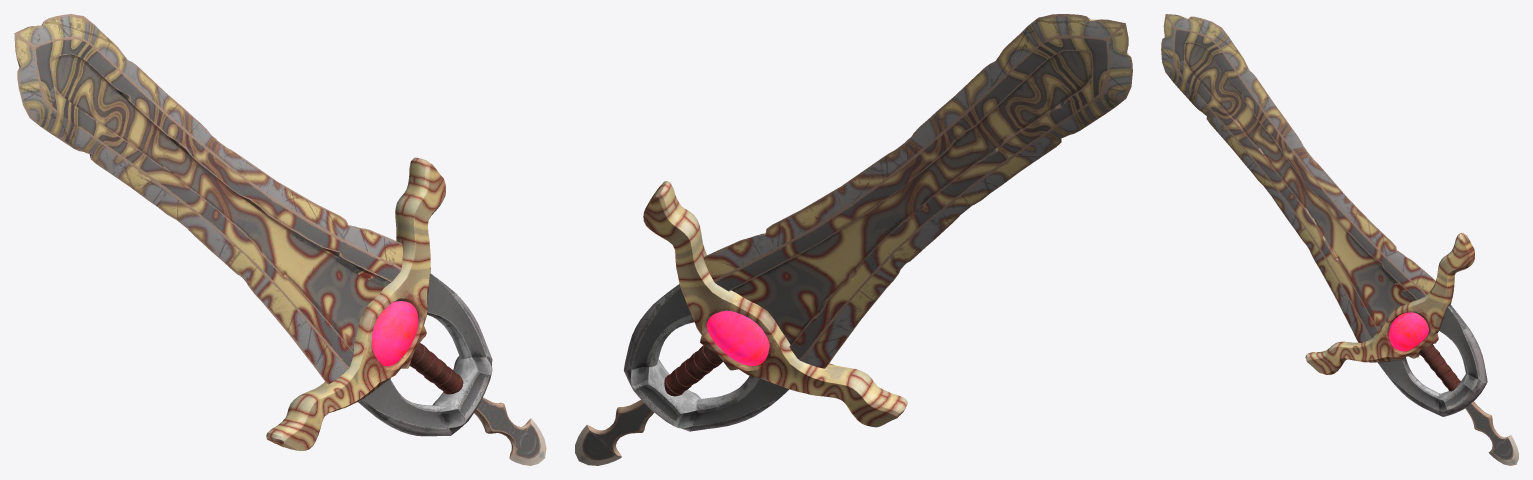
File: sword.glb
The picture shows the model from 3 angles, left to right: view 1: azimuth 30°, elevation 25°; view 2: azimuth 150°, elevation 25°; view 3: azimuth 330°, elevation 25°; orthographic projection. The views are drawn at different scales.
Parts seen in each view (by area): view 1: AlchemistSword_AlchemistSword_0, AlchemistSword_Stone_0; view 2: AlchemistSword_AlchemistSword_0, AlchemistSword_Stone_0; view 3: AlchemistSword_AlchemistSword_0, AlchemistSword_Stone_0.
Part boxes in pixels (x1=…): AlchemistSword_AlchemistSword_0: x1=14, y1=14, x2=546, y2=465; AlchemistSword_Stone_0: x1=371, y1=301, x2=418, y2=366; AlchemistSword_AlchemistSword_0: x1=575, y1=14, x2=1132, y2=465; AlchemistSword_Stone_0: x1=706, y1=310, x2=769, y2=365; AlchemistSword_AlchemistSword_0: x1=1161, y1=14, x2=1518, y2=465; AlchemistSword_Stone_0: x1=1389, y1=312, x2=1428, y2=351.
Size of the model in its own units: 5.46 by 5.45 by 0.9879.
Materials: 2 (2 with a texture image).
